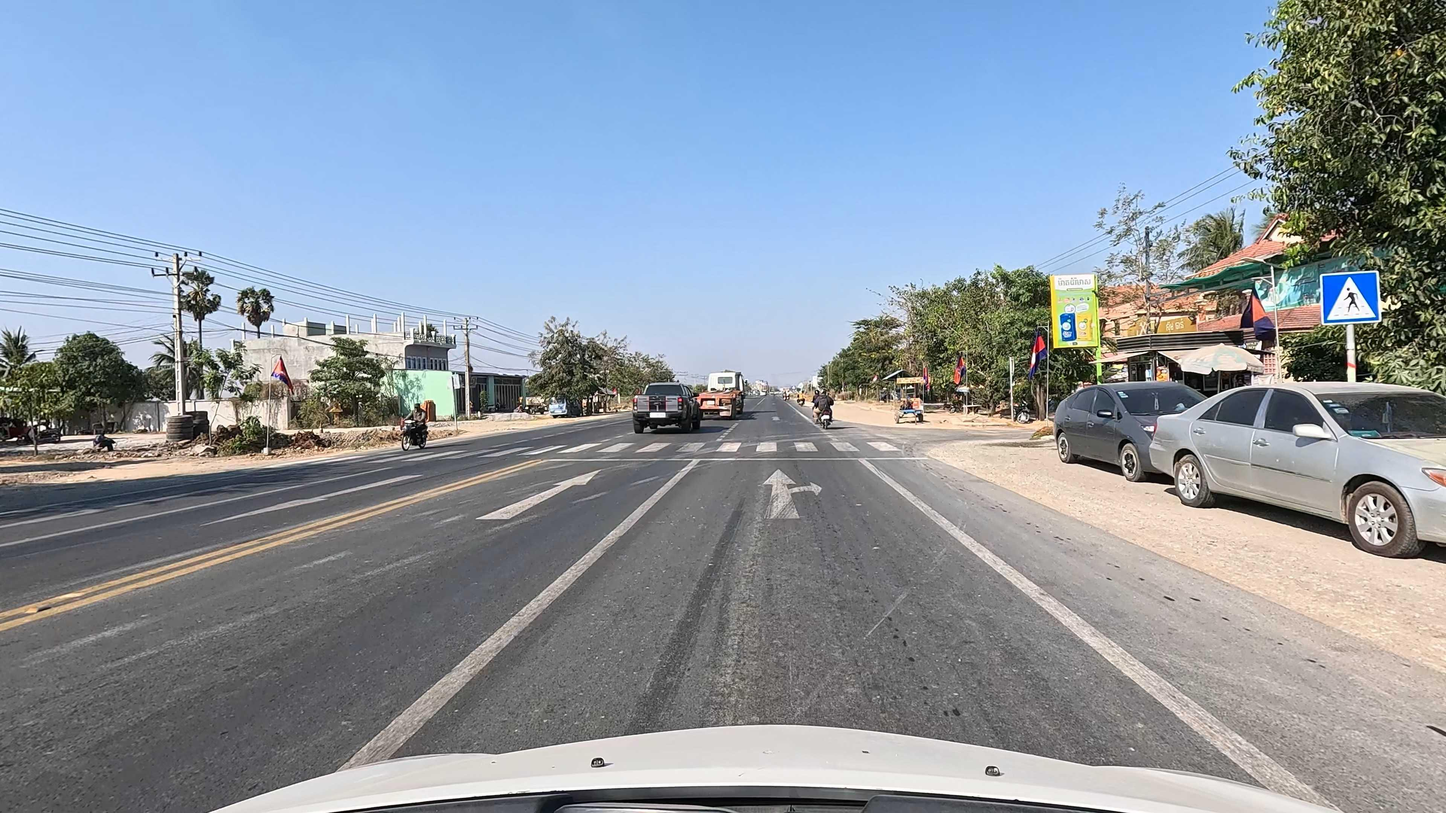pedestrian_crossing: (1318, 270, 1383, 326)
